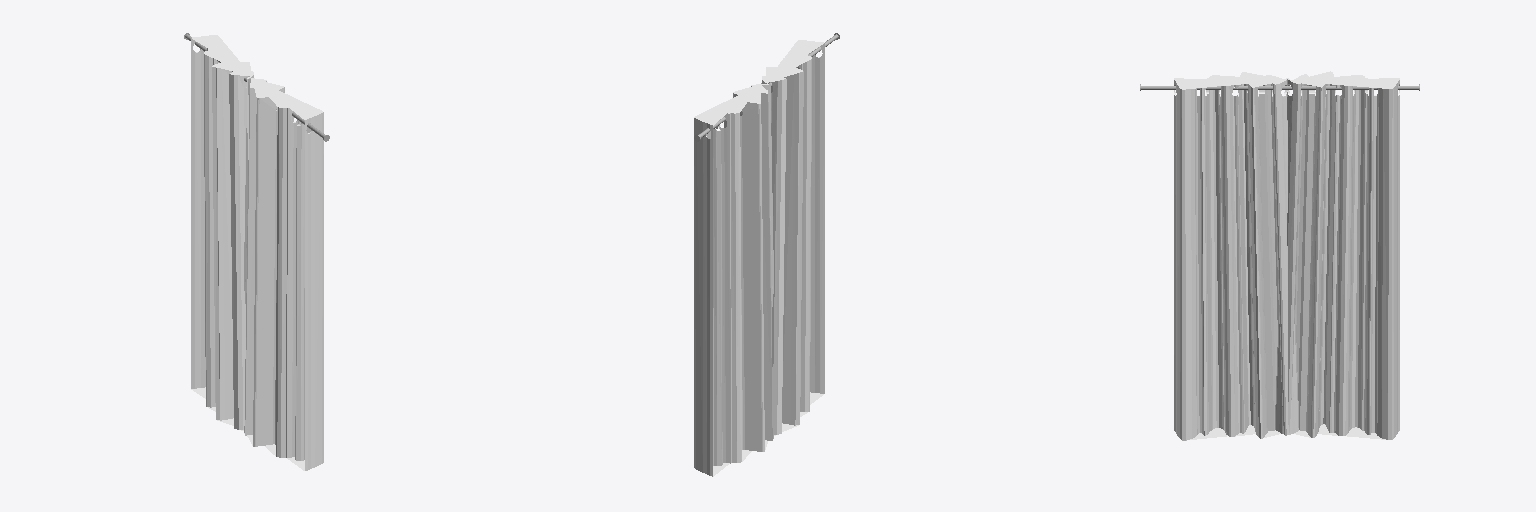
Rendered from curtain_shower.obj.
The picture shows the model from 3 angles: view 1: azimuth 30°, elevation 25°; view 2: azimuth 150°, elevation 25°; view 3: azimuth 270°, elevation 25°; orthographic projection.
Parts seen in each view (by area): view 1: Mesh3 Group3 Group_1_1 Model, Mesh1 Group1 Group_1_1 Model; view 2: Mesh1 Group1 Group_1_1 Model, Mesh3 Group3 Group_1_1 Model; view 3: Mesh3 Group3 Group_1_1 Model, Mesh1 Group1 Group_1_1 Model, Mesh2 Group2 Group_1_1 Model.
Part boxes in pixels (x1,y1,x2,y2): Mesh3 Group3 Group_1_1 Model: (244,78,323,470); Mesh1 Group1 Group_1_1 Model: (191,35,253,430); Mesh1 Group1 Group_1_1 Model: (694,84,773,476); Mesh3 Group3 Group_1_1 Model: (761,40,824,435); Mesh3 Group3 Group_1_1 Model: (1174,72,1298,440); Mesh1 Group1 Group_1_1 Model: (1275,71,1399,439); Mesh2 Group2 Group_1_1 Model: (1140,84,1419,90).
Bounding box in the file's own units: 12.26 × 110 × 79.64.